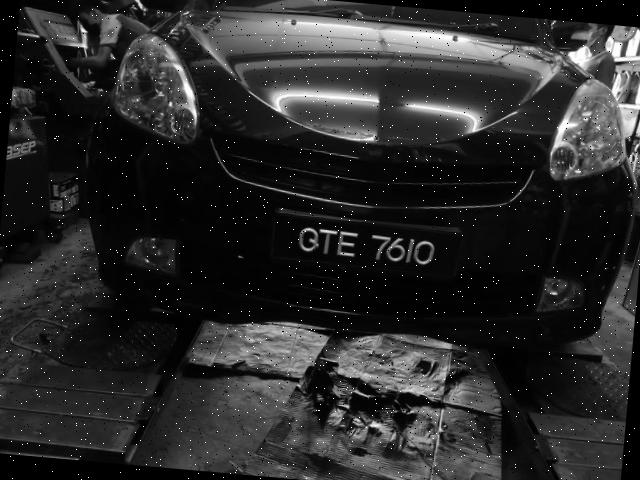License_Plate: (271, 212, 465, 284)
car: (94, 1, 640, 344)
